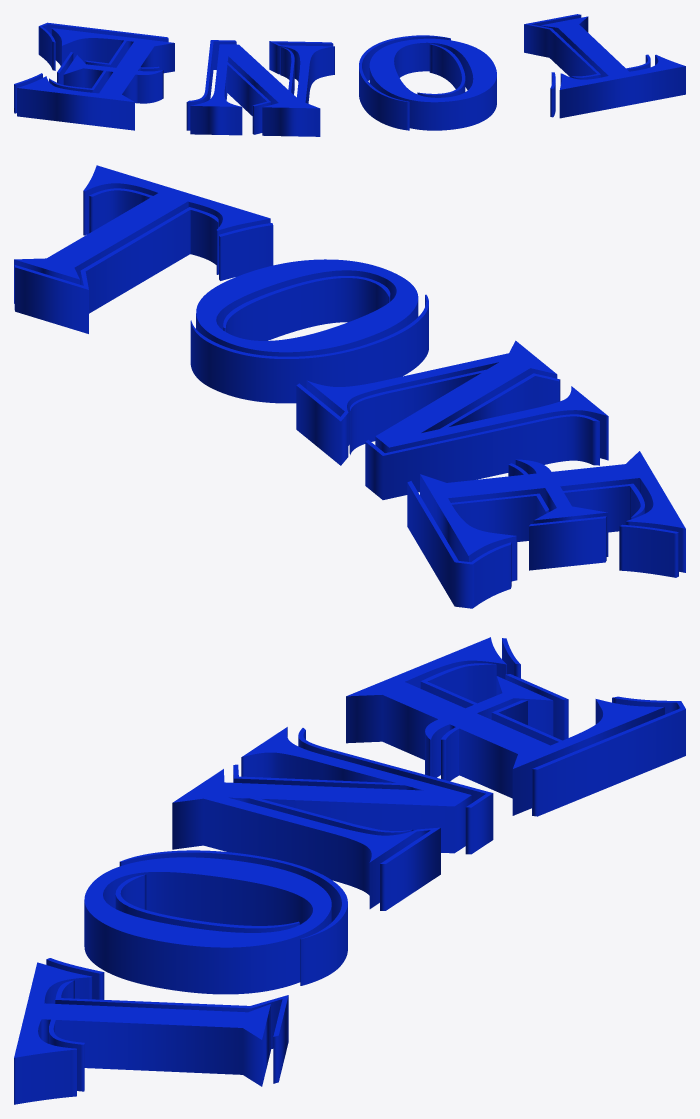
The model's file is tone-sign.fbx.
The picture shows the model from 3 angles, top to bottom: view 1: azimuth 30°, elevation 25°; view 2: azimuth 150°, elevation 25°; view 3: azimuth 270°, elevation 25°; orthographic projection. The views are drawn at different scales.
Parts seen in each view (by area): view 1: Text; view 2: Text; view 3: Text.
Boxes of the visible parts, x1,y1,x2,y2 form: Text: (14, 14, 685, 136); Text: (14, 165, 685, 608); Text: (14, 637, 685, 1104).
Bounding box in the file's own units: 231 × 12 × 156.
